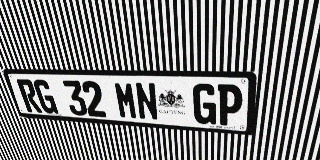2: (80, 81, 106, 117)
3: (62, 80, 88, 116)
G: (193, 83, 217, 125), (32, 79, 59, 114)
M: (113, 81, 138, 119)
N: (134, 82, 159, 121)
P: (217, 84, 243, 126)
R: (16, 79, 43, 113)
